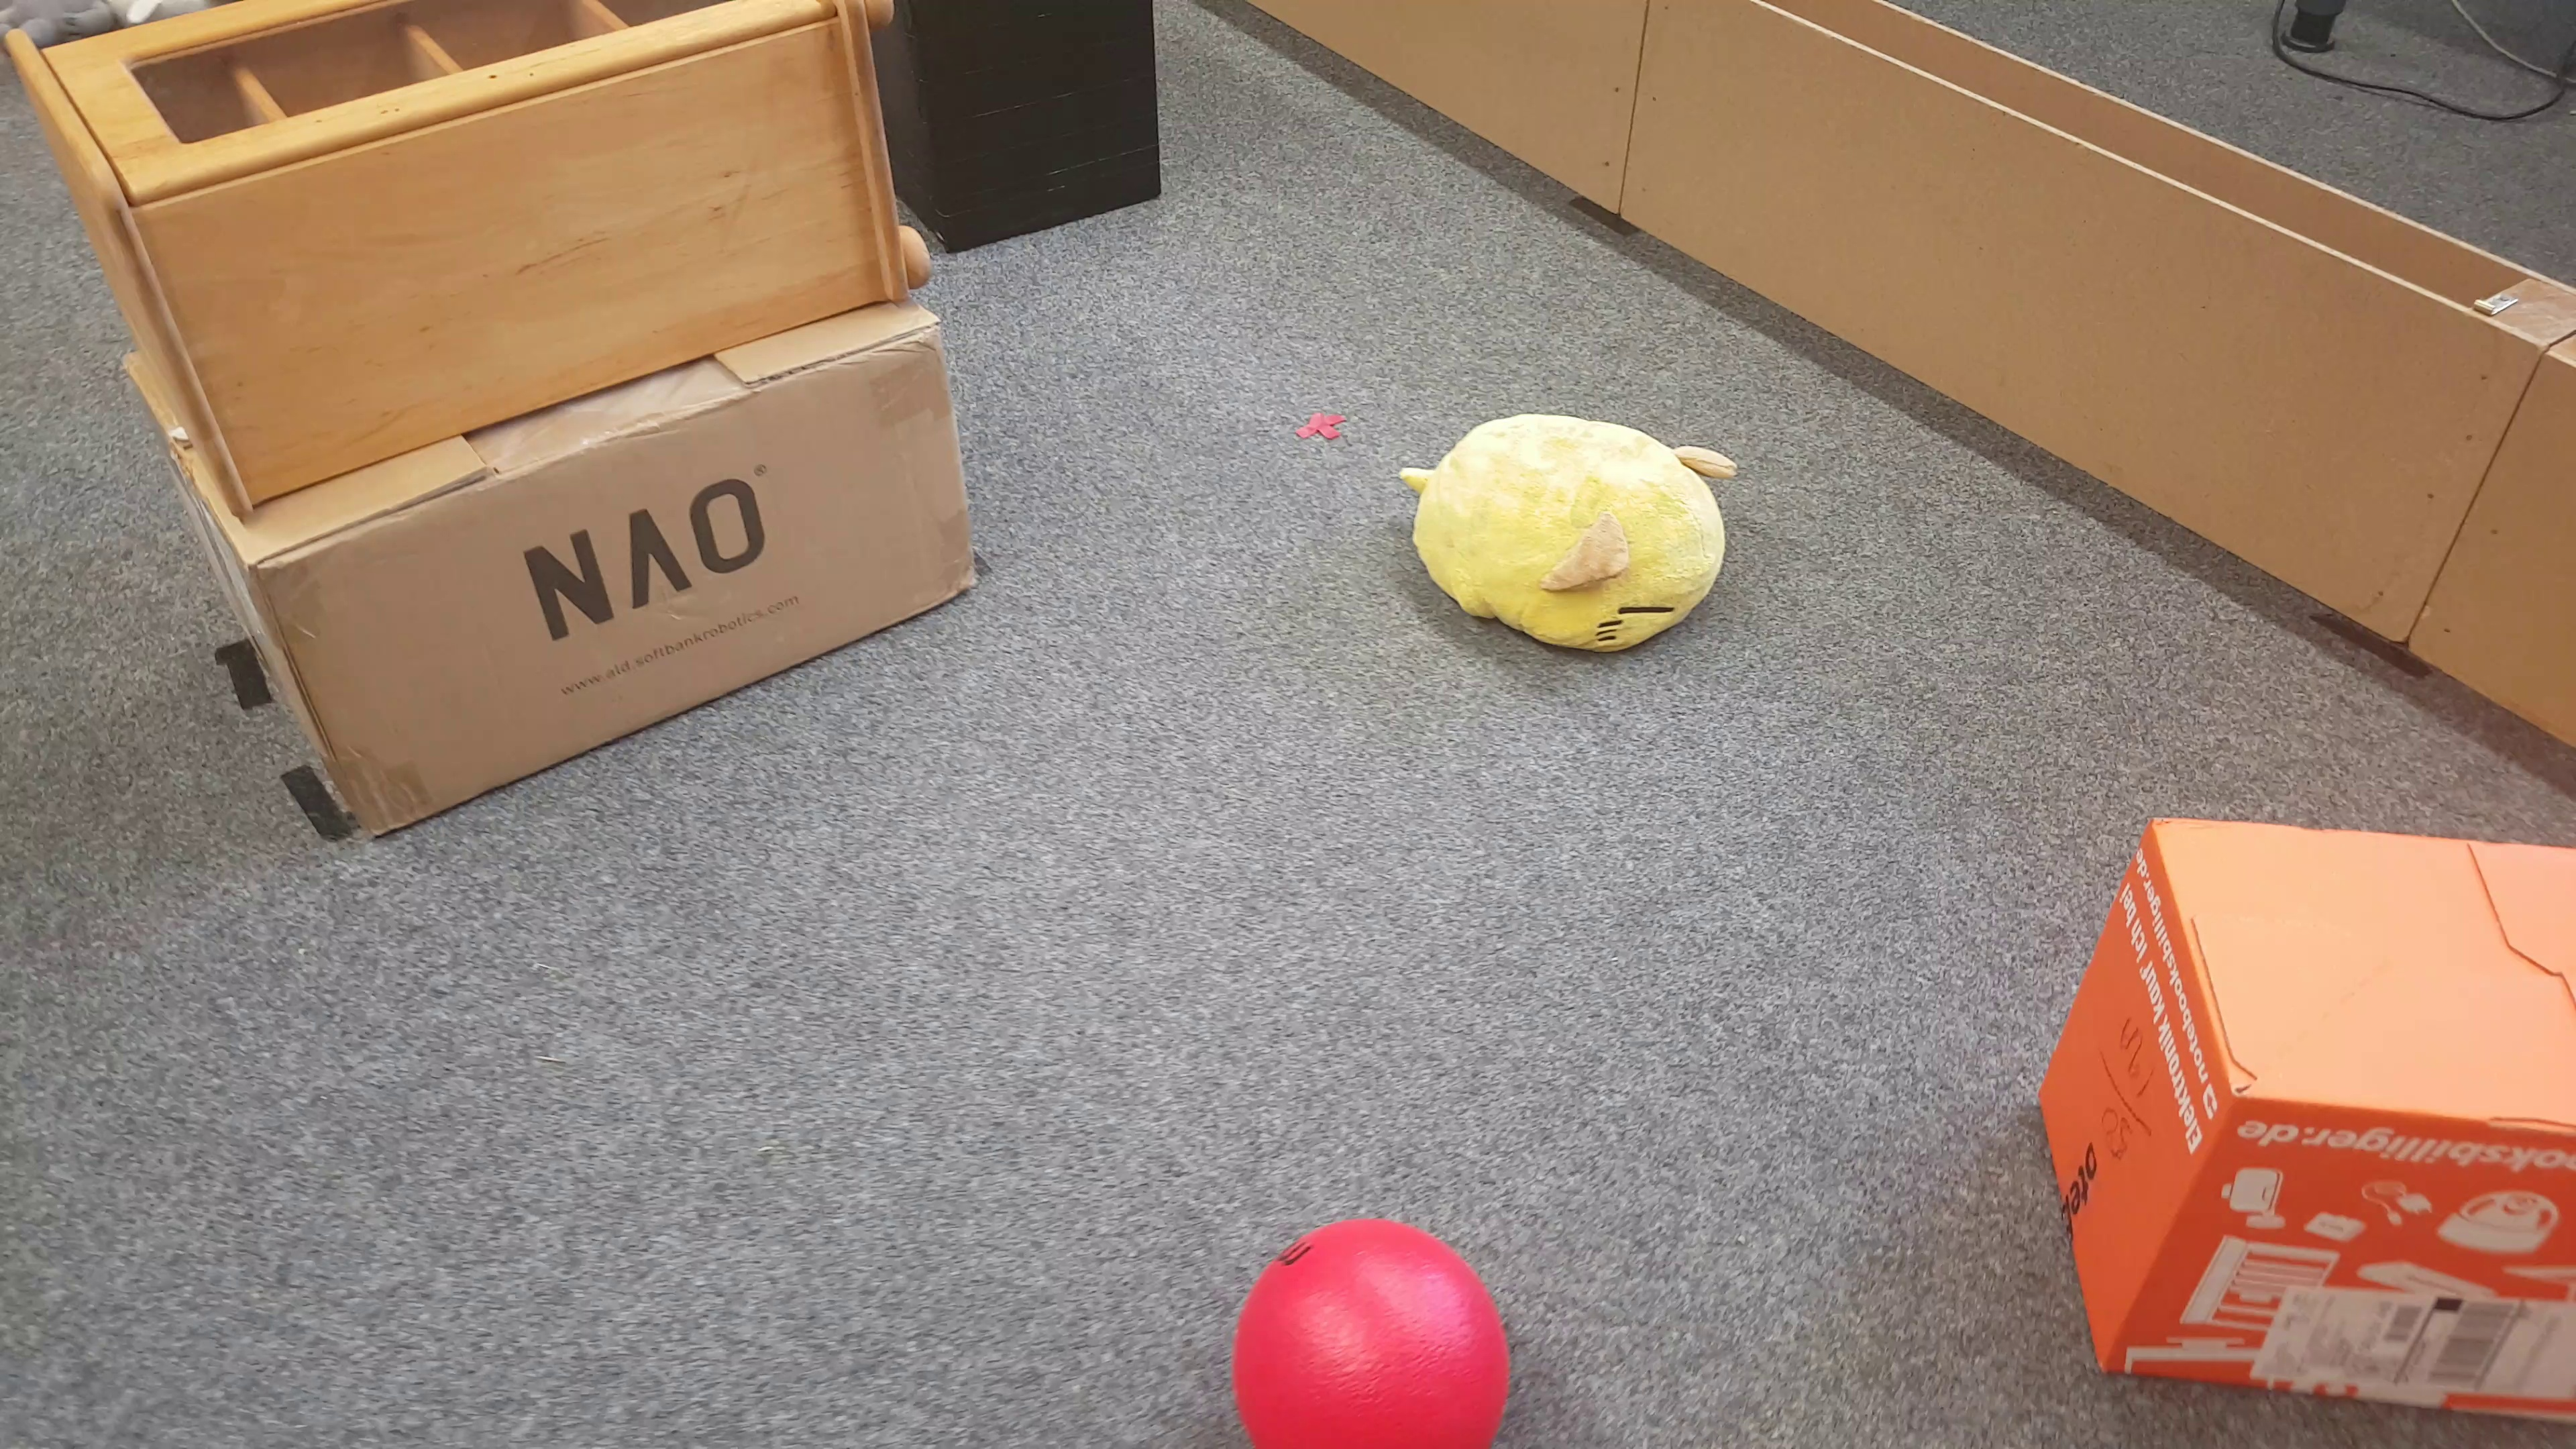grasp: (1394, 410, 1729, 671)
kick: (1230, 1219, 1514, 1449)
push: (2029, 807, 2576, 1431), (913, 4, 1171, 253)
